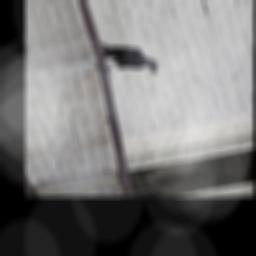Crow: (88, 32, 162, 84)
